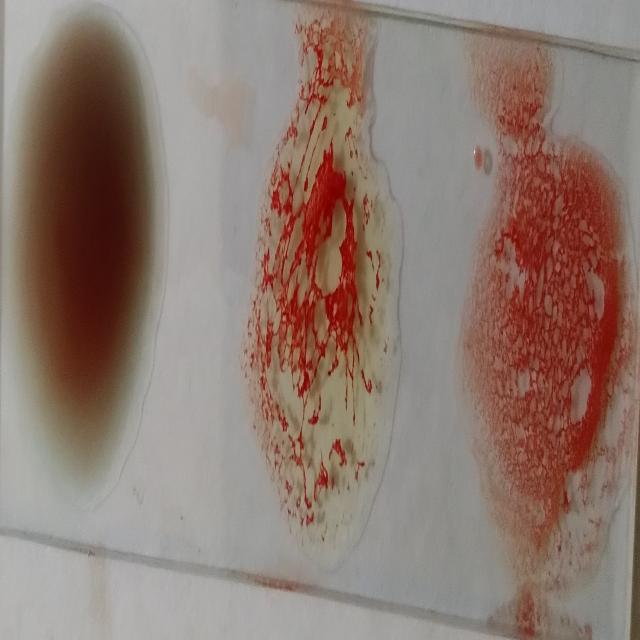B: (247, 32, 398, 566)
D: (468, 147, 632, 578)
